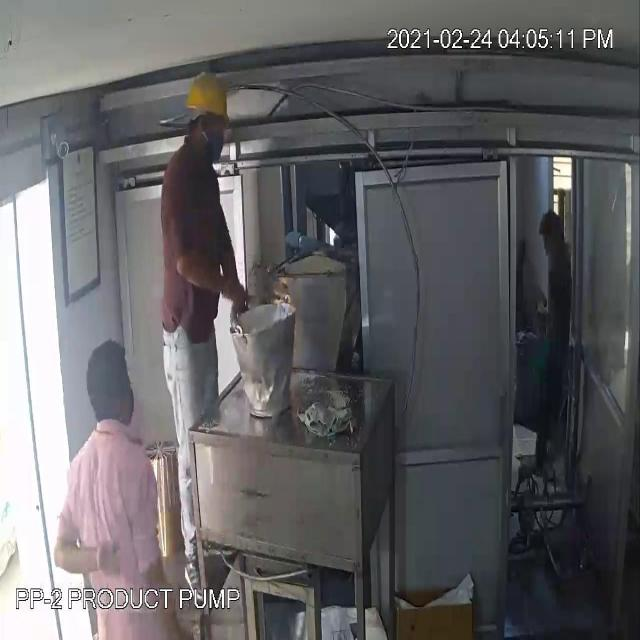helmet: (182, 56, 236, 132)
no-helmet: (78, 334, 132, 404)
